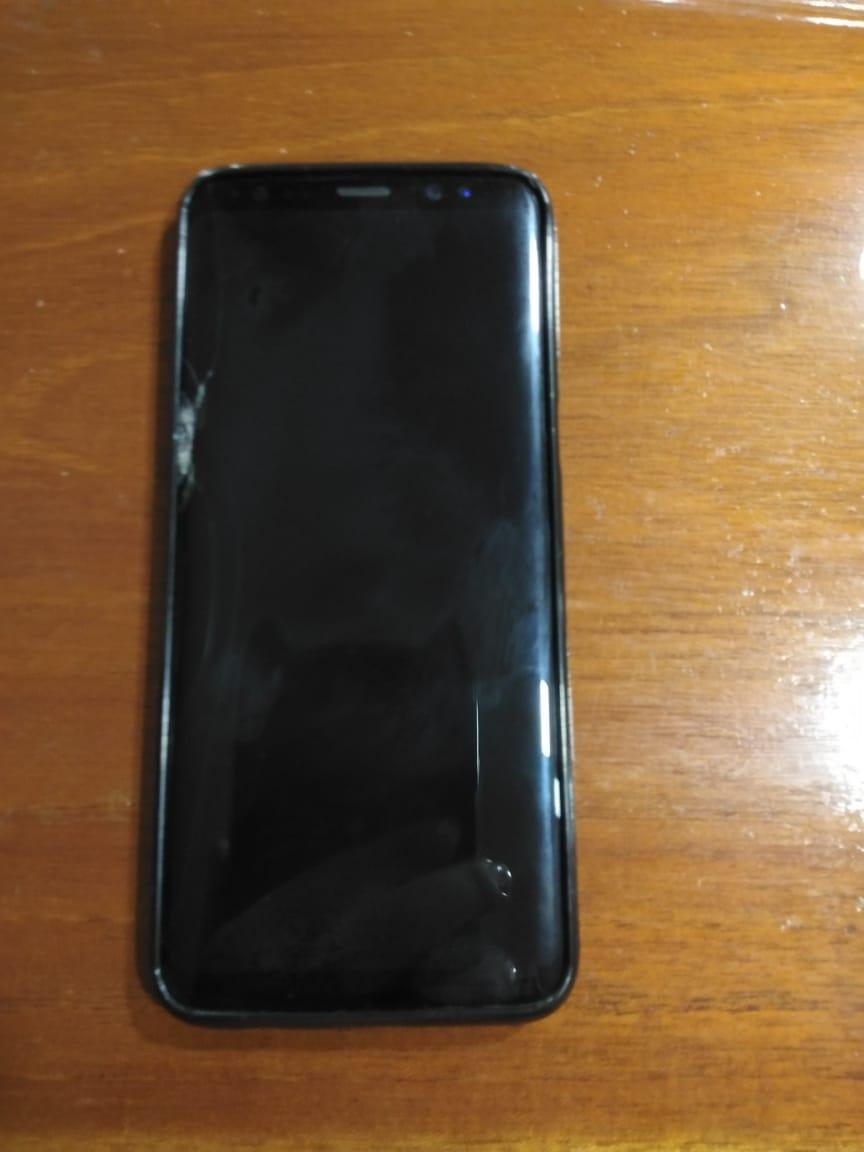Phone: (99, 128, 608, 1058)
